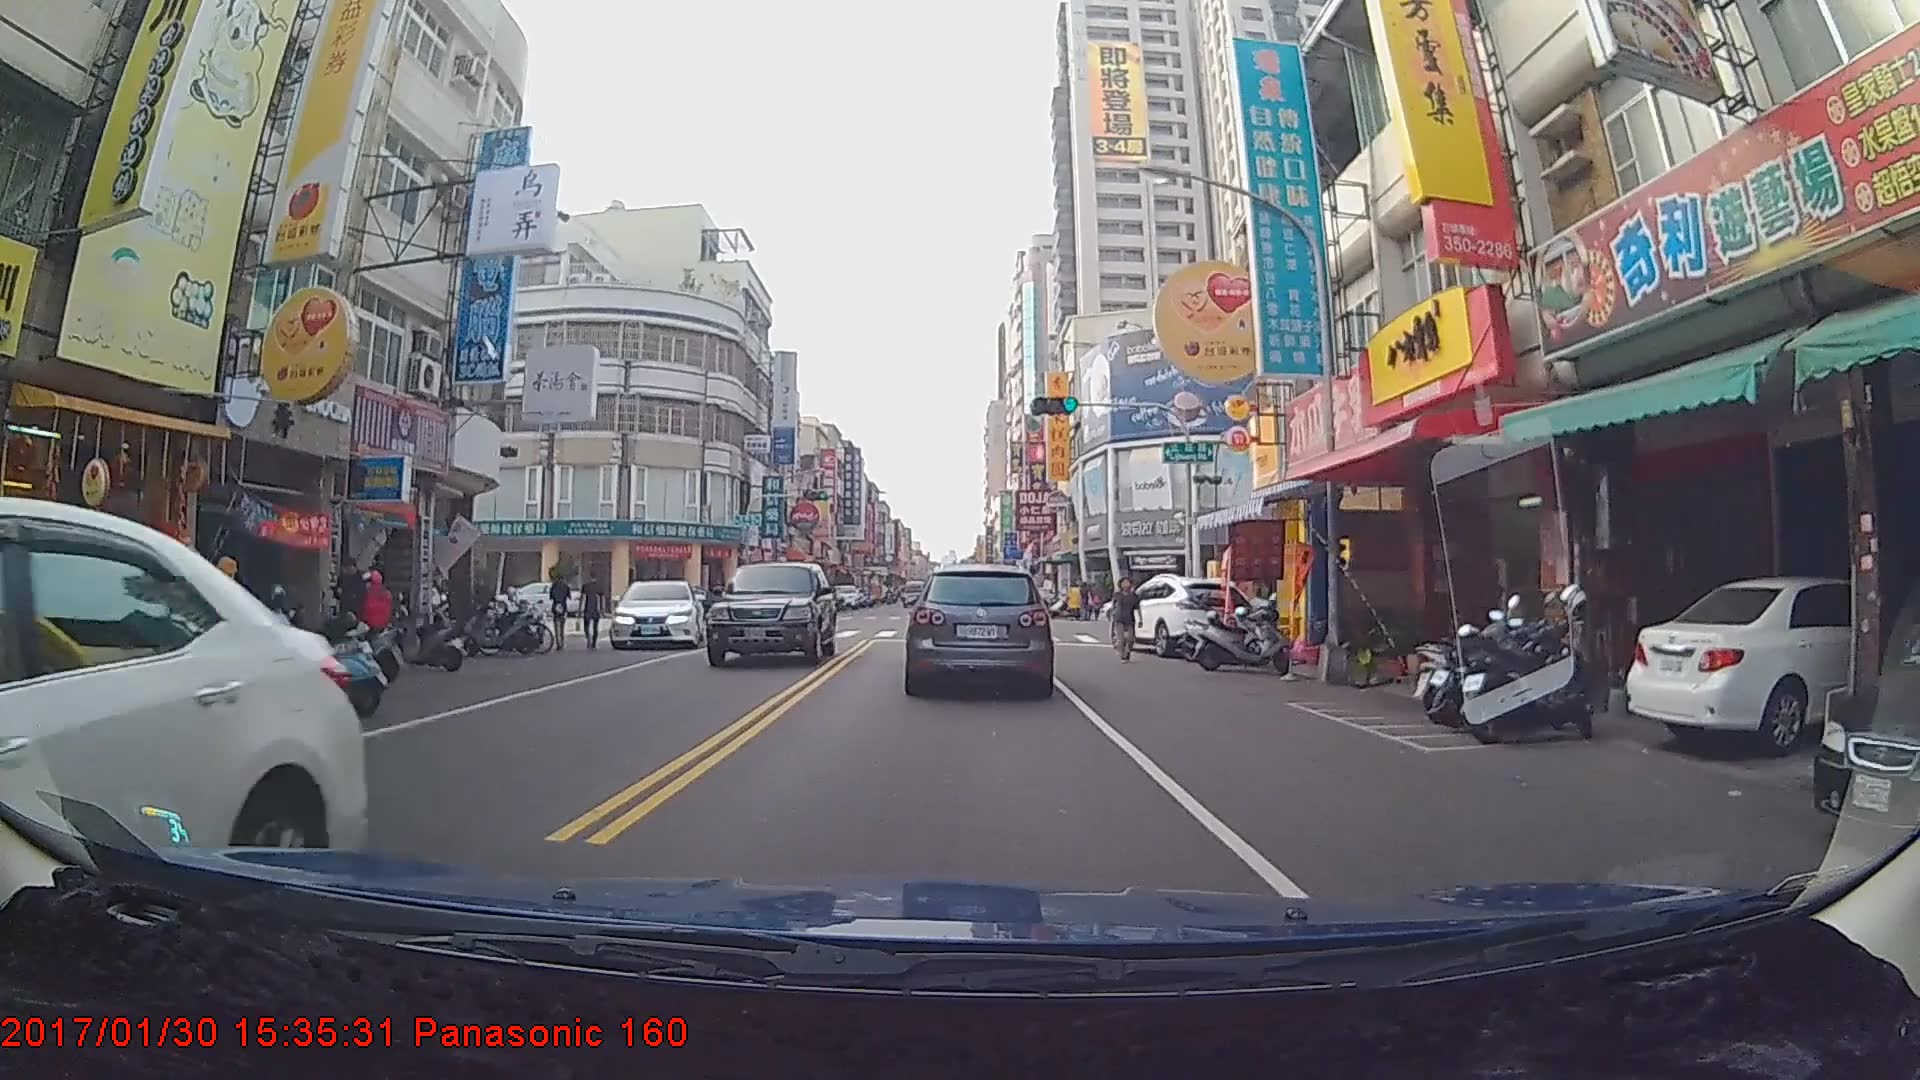pedestrian: (331, 552, 374, 653), (1108, 578, 1142, 662), (579, 569, 608, 647), (548, 571, 573, 653)
vehicle: (0, 500, 353, 1011), (1620, 572, 1920, 760), (906, 563, 1052, 694), (707, 559, 836, 666), (1103, 573, 1258, 657), (609, 576, 703, 649), (902, 577, 929, 606)
